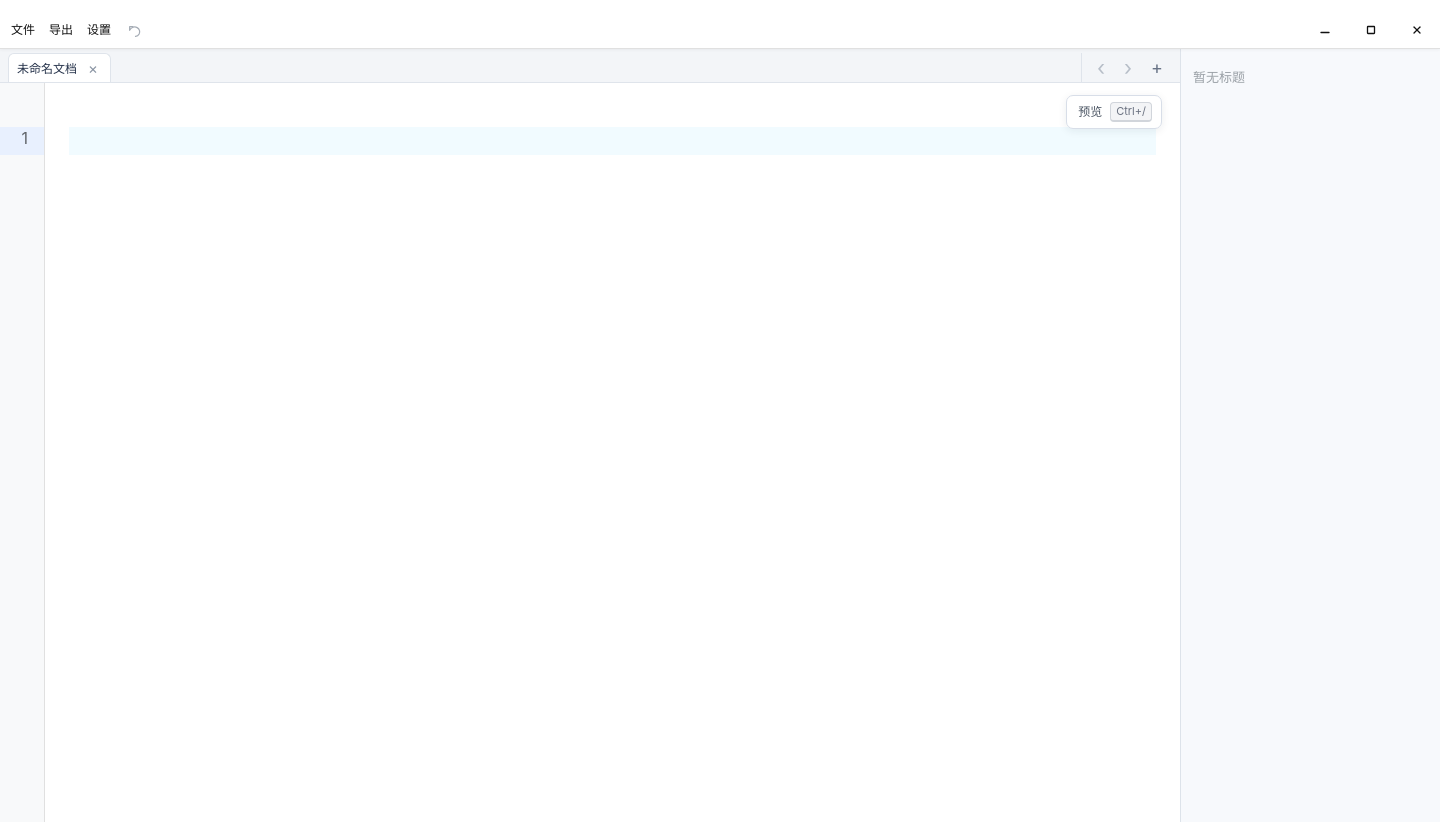
Test case: App › 应该在内容区提供带快捷键提示的编辑预览切换入口
Click the button with aria-label "切换到预览" at coordinates (1114, 112), box top-left (1066, 95), bottom-right (1162, 129)
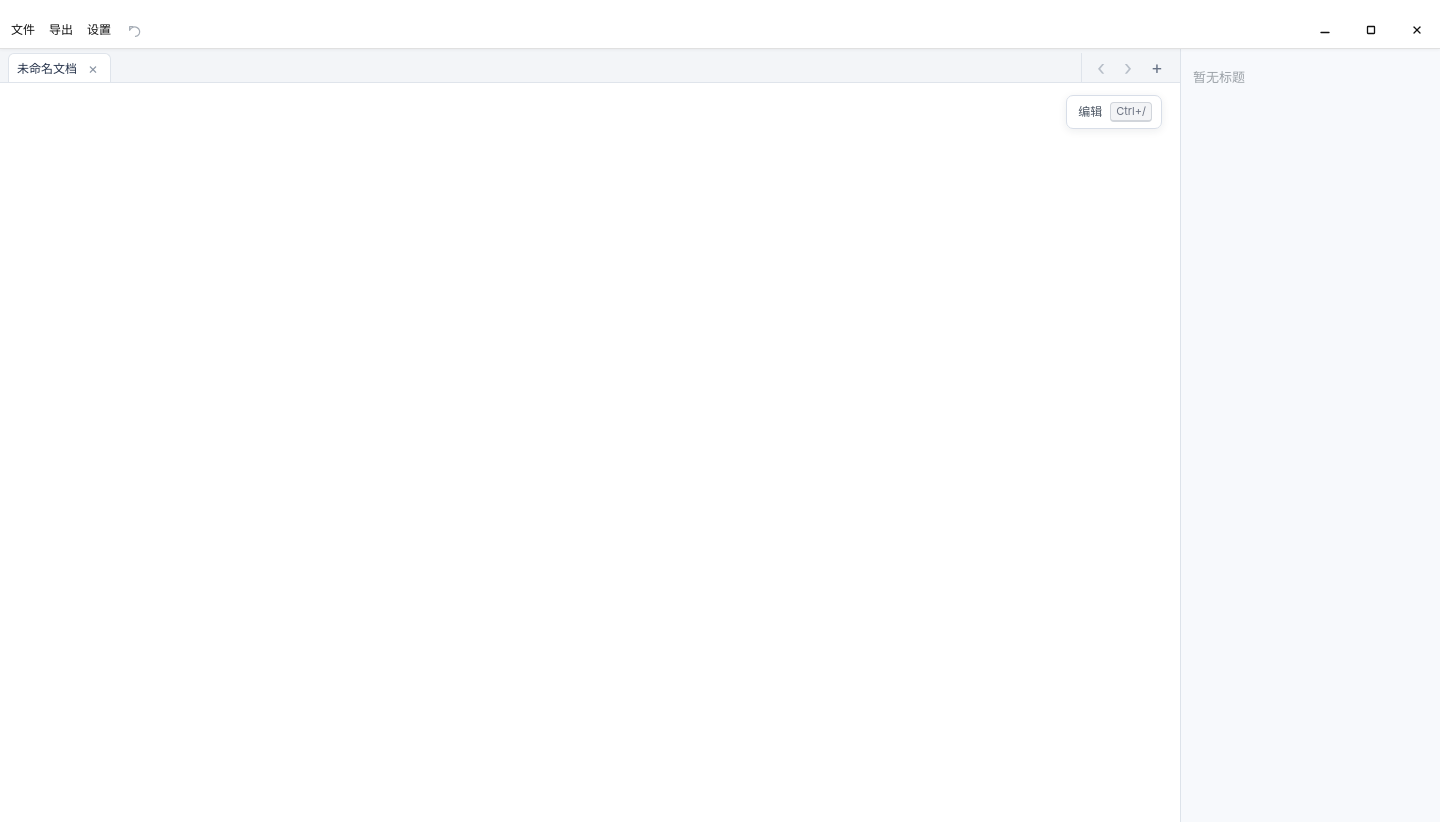
expect the element with test id "preview-container" is shown: met
